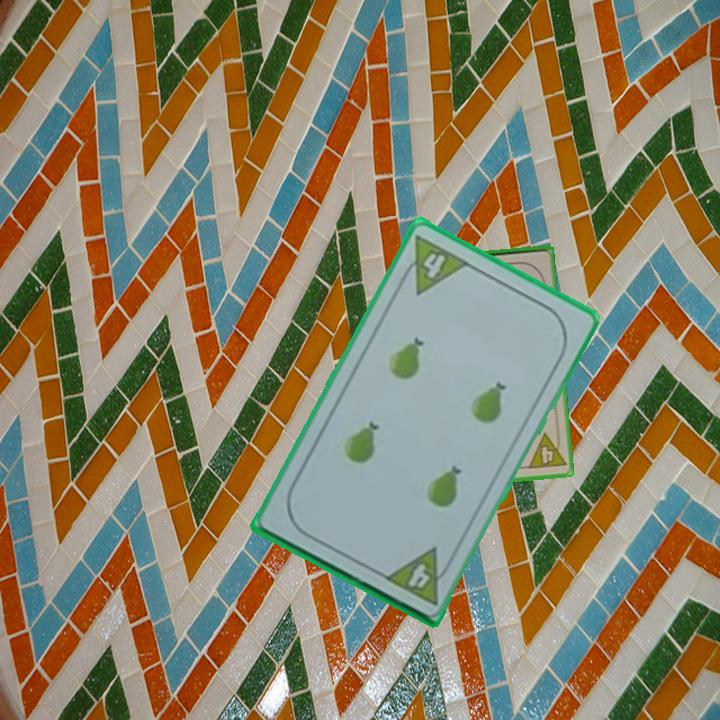4p: (394, 231, 472, 298), (380, 543, 456, 608), (524, 429, 569, 472)
